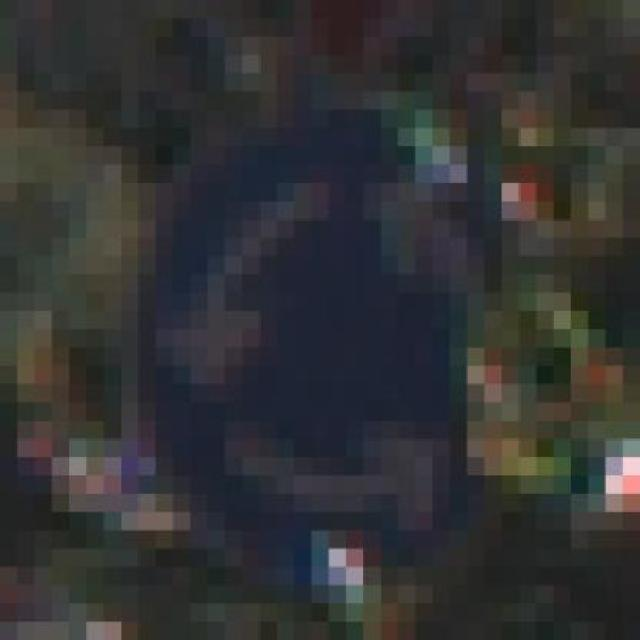Round-About: (103, 110, 571, 604)
